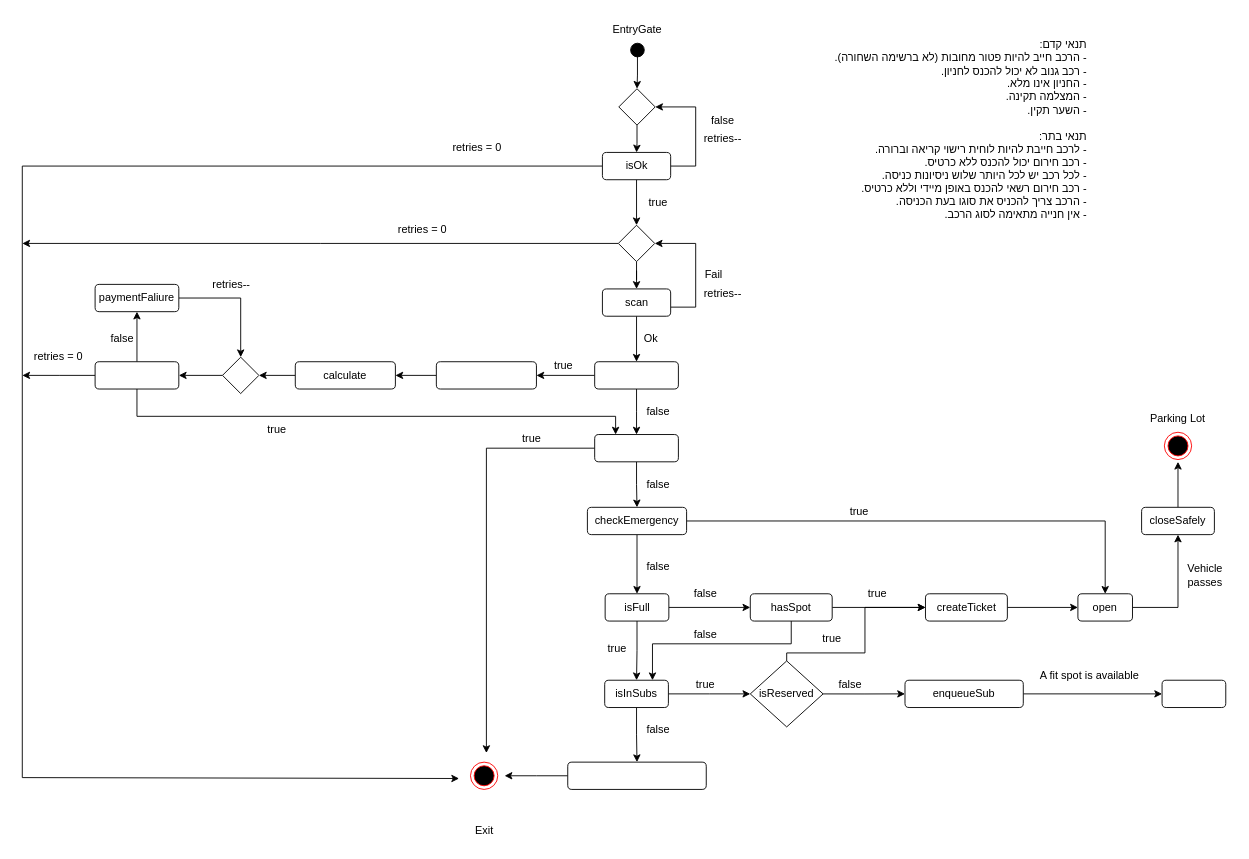
This 1249x859 diagram has some shape labels left out. The centre of each missing label's shape, as x and y in pixels:
"checkBlacklist" goes at (636,375).
"checkStolen" goes at (636,448).
"enqueueVisitor" goes at (636,775).
"getPendingTickets" goes at (485,375).
"notifySub" goes at (1193,693).
"pay" goes at (136,375).
